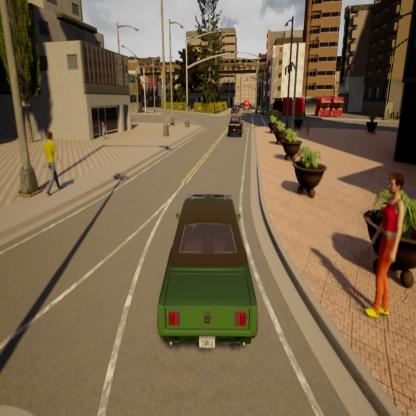Cars: (156, 192, 258, 350), (227, 114, 244, 137), (244, 99, 250, 112)
Pedestrian: (362, 170, 408, 323), (42, 128, 62, 199), (99, 122, 107, 140)
